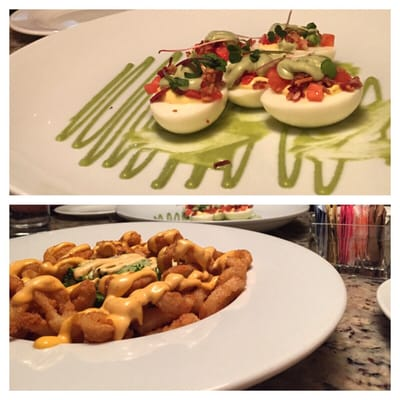pizza: (310, 204, 391, 277), (9, 205, 51, 236)
